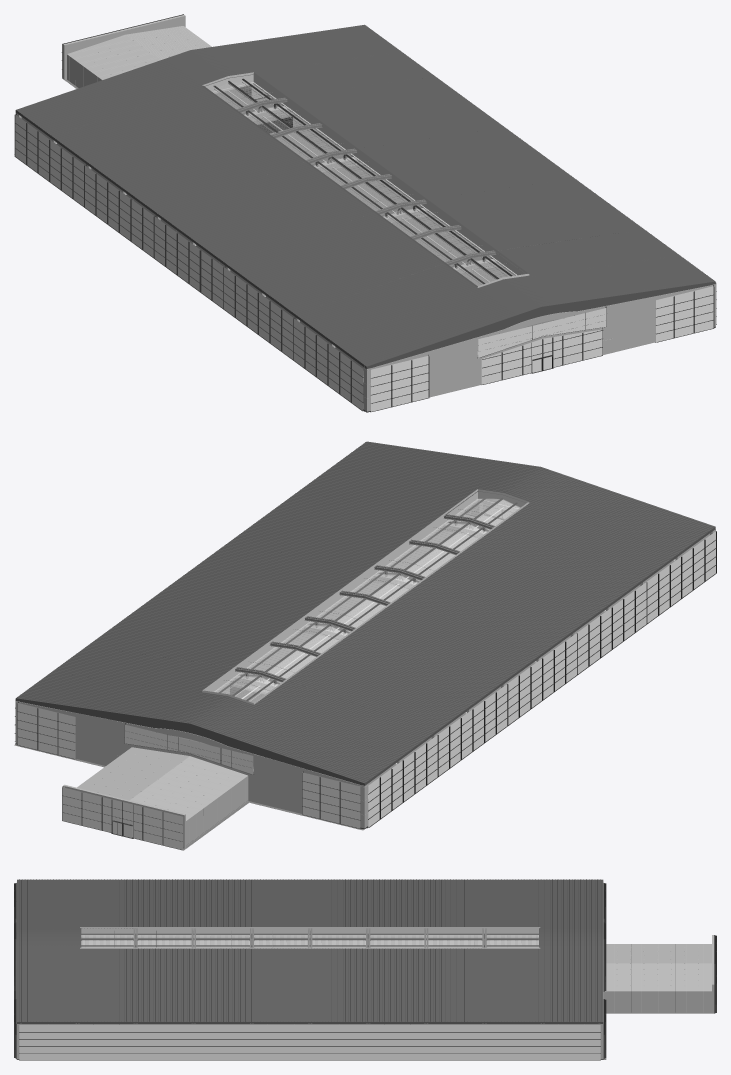
Rendered from hall-thick-inst.glb.
The picture shows the model from 3 angles, top to bottom: view 1: azimuth 30°, elevation 25°; view 2: azimuth 150°, elevation 25°; view 3: azimuth 270°, elevation 25°; orthographic projection. The views are drawn at different scales.
Parts seen in each view (by area): view 1: Roof_001, Roof_005, Roof_003, Roof_004, Roof_002, Mesh152, Corridor, Window_Glass007, Floor, Window_Framing, Window_Glass010, Window_Glass004 (+19 smaller); view 2: Roof_005, Roof_001, Roof_003, Roof_002, Roof_004, Corridor, Mesh139, Window_Glass007, Floor, Window_Framing, Window_Glass016, Window_Glass005 (+19 smaller); view 3: Roof_005, Roof_001, Roof_003, Roof_002, Roof_004, Window_Glass003, Corridor, Window_Framing, Window_Glass, Window_Glass002, Window_Glass001, Floor (+15 smaller).
Boxes of the visible parts, x1,y1,x2,y2 form: Roof_001: [295, 229, 715, 368]; Roof_005: [15, 24, 435, 164]; Roof_003: [156, 127, 574, 265]; Roof_004: [87, 76, 504, 214]; Roof_002: [226, 178, 643, 316]; Mesh152: [363, 285, 709, 402]; Corridor: [63, 15, 248, 93]; Window_Glass007: [15, 114, 154, 257]; Floor: [14, 79, 559, 408]; Window_Framing: [202, 72, 529, 287]; Window_Glass010: [481, 329, 602, 384]; Window_Glass004: [293, 318, 363, 410]; Roof_005: [15, 646, 435, 785]; Roof_001: [296, 441, 715, 580]; Roof_003: [157, 544, 574, 682]; Roof_002: [226, 493, 644, 631]; Roof_004: [87, 595, 505, 733]; Corridor: [63, 747, 248, 849]; Mesh139: [21, 702, 368, 818]; Window_Glass007: [368, 684, 507, 827]; Floor: [14, 514, 502, 849]; Window_Framing: [202, 489, 529, 704]; Window_Glass016: [62, 787, 183, 849]; Window_Glass005: [577, 582, 646, 673]; Roof_005: [484, 879, 603, 1023]; Roof_001: [17, 879, 135, 1023]; Roof_003: [252, 879, 368, 1023]; Roof_002: [135, 879, 251, 1023]; Roof_004: [368, 879, 484, 1023]; Window_Glass003: [368, 1025, 600, 1060]; Corridor: [603, 935, 714, 1013]; Window_Framing: [80, 927, 540, 948]; Window_Glass: [19, 1025, 135, 1060]; Window_Glass002: [252, 1025, 368, 1060]; Window_Glass001: [135, 1025, 251, 1060]; Floor: [81, 936, 711, 1059].
Size of the model in its own units: 73.54 by 12.83 by 151.
14 materials, 1 textured.
